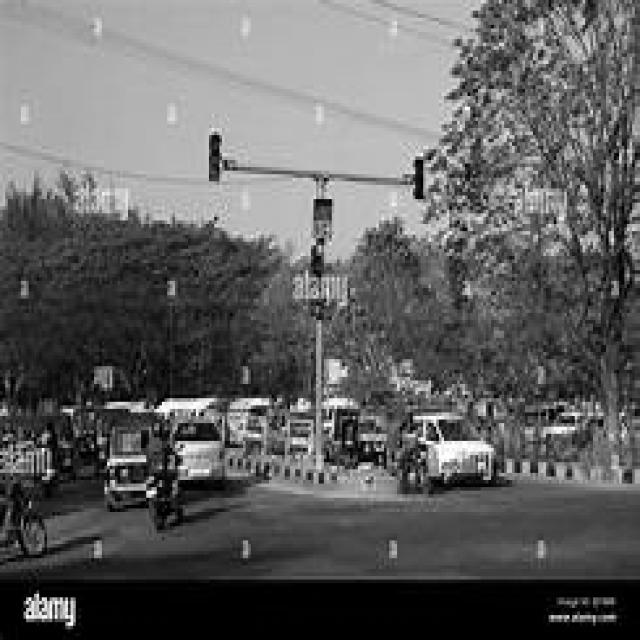Auto: (104, 415, 162, 510)
